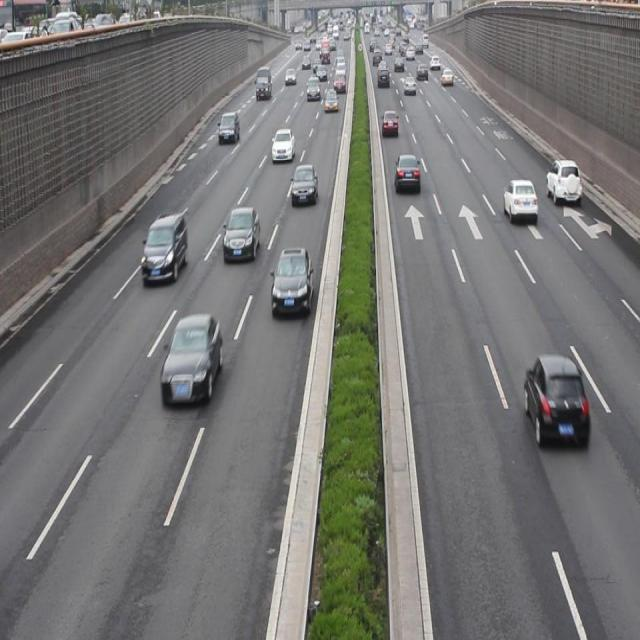car: (523, 351, 588, 450), (159, 313, 223, 405), (140, 212, 187, 282), (271, 246, 312, 316), (222, 206, 260, 261), (502, 175, 538, 224), (545, 156, 581, 205), (291, 163, 318, 204), (394, 152, 419, 194), (272, 127, 294, 163), (218, 110, 241, 142), (381, 109, 398, 138)
